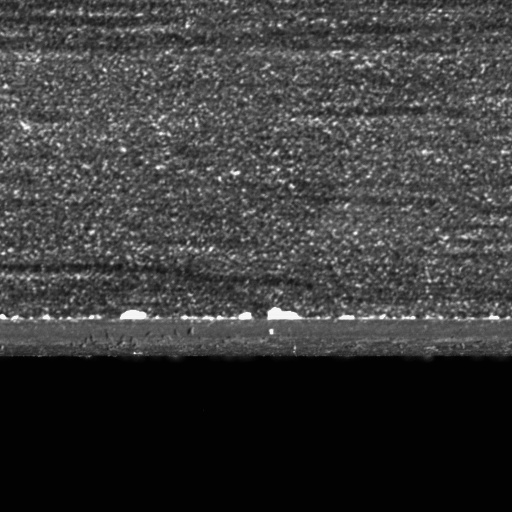huashang: (265, 308, 303, 321), (119, 310, 150, 321)
